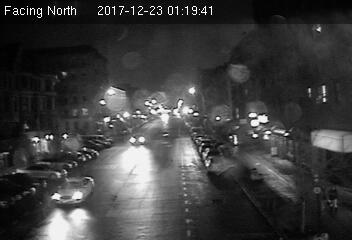car: (50, 175, 95, 206), (129, 133, 147, 145)
